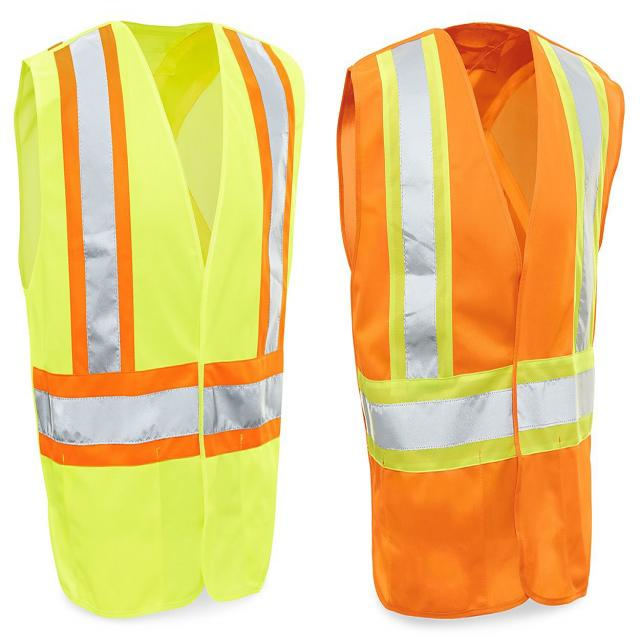Reflective-Jacket: (318, 10, 633, 630), (0, 13, 318, 625)
